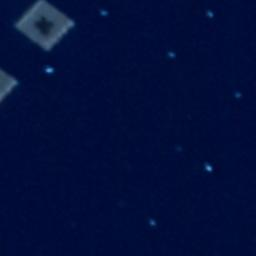square_cover: (13, 1, 84, 55), (1, 67, 22, 102)
